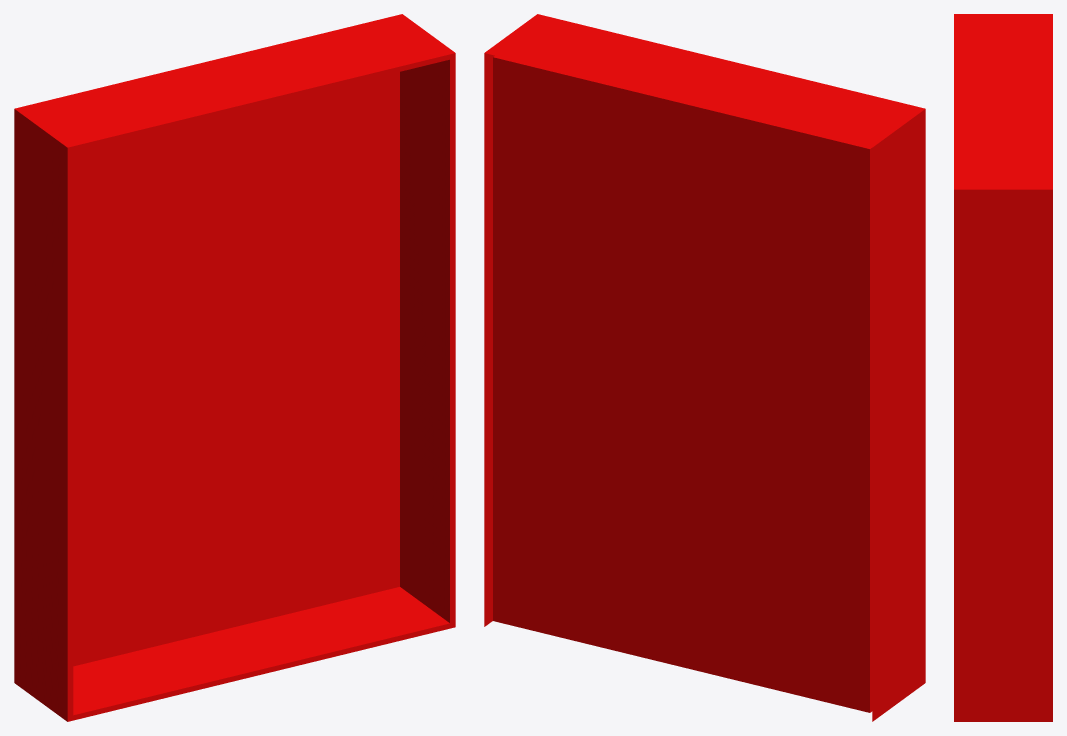
The model's file is Bookshelf.fbx.
The picture shows the model from 3 angles, left to right: view 1: azimuth 30°, elevation 25°; view 2: azimuth 150°, elevation 25°; view 3: azimuth 270°, elevation 25°; orthographic projection. The views are drawn at different scales.
Visible parts, largest first — view 1: Library_Bookshelf; view 2: Library_Bookshelf; view 3: Library_Bookshelf.
Boxes of the visible parts, <box> form: Library_Bookshelf: <box>14,14,455,721</box>; Library_Bookshelf: <box>484,14,925,721</box>; Library_Bookshelf: <box>954,14,1052,721</box>.
Bounding box in the file's own units: 188 × 265 × 44.65.
